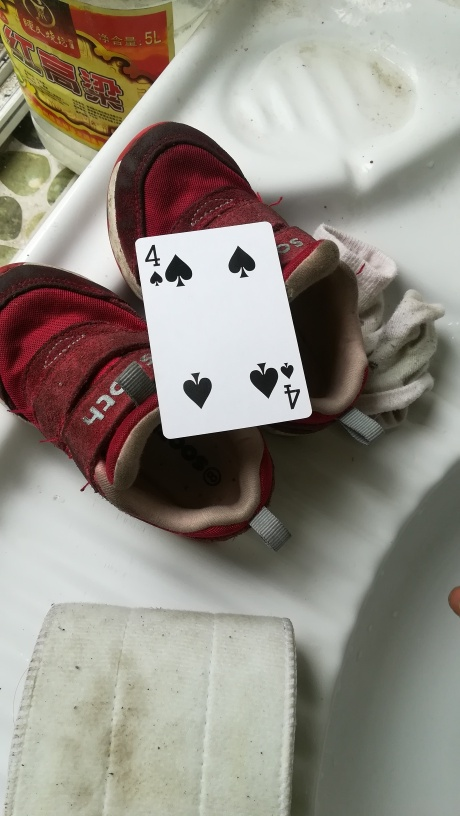ht 4: (130, 221, 319, 439)
